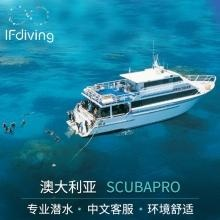yacht: (61, 53, 216, 139)
